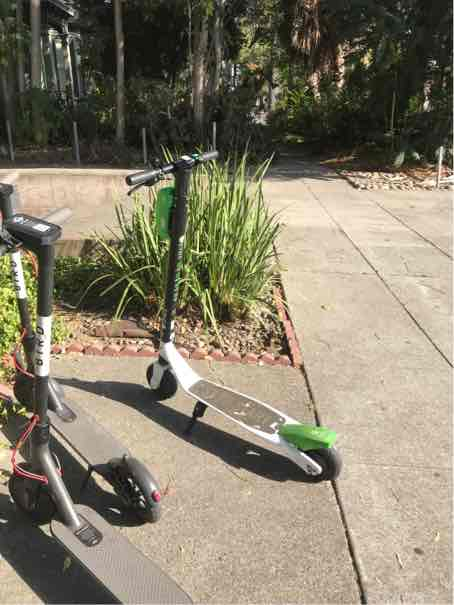scooter: (124, 140, 345, 488)
